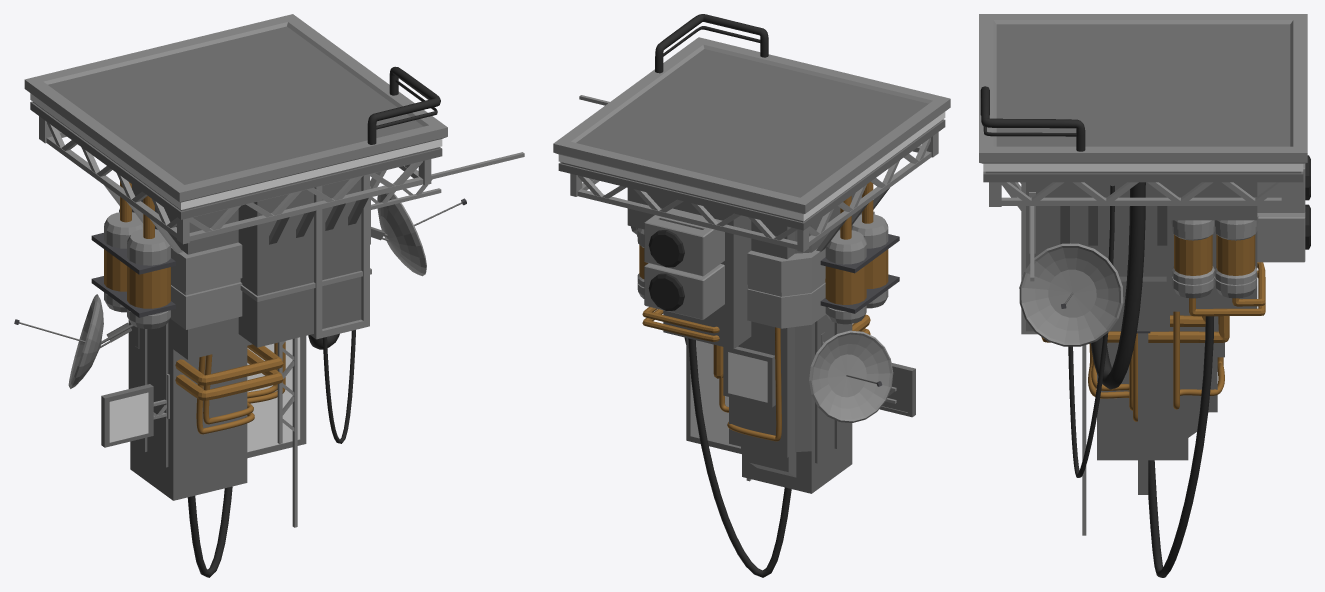
Rendered from quaternius-cyberpunk-platform-2-x-2.glb.
3 renders of one model, left to right at view 1: azimuth 30°, elevation 25°; view 2: azimuth 150°, elevation 25°; view 3: azimuth 270°, elevation 25°, orthographic. The views are drawn at different scales.
Parts seen in each view (by area): view 1: Platform_2x2; view 2: Platform_2x2; view 3: Platform_2x2.
Part boxes in pixels (x1,y1,x2,y2): Platform_2x2: (14,14,524,577); Platform_2x2: (553,14,950,577); Platform_2x2: (979,14,1310,577).
Bounding box in the file's own units: 3.31 × 3.83 × 2.16.
1 material, 1 textured.
